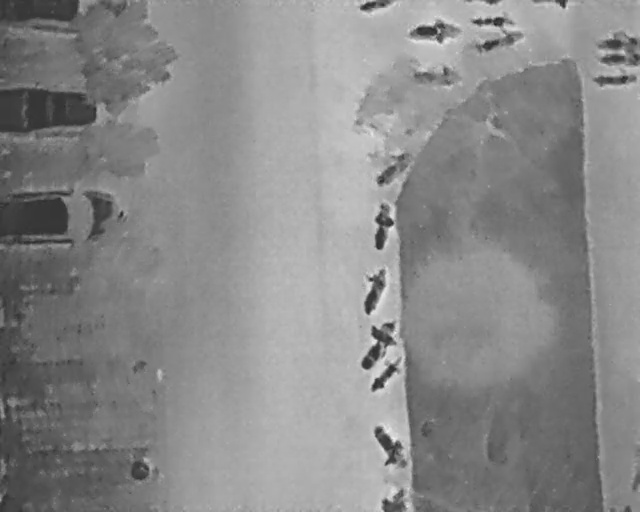Bicycle: (344, 309, 409, 377), (363, 416, 415, 478), (347, 257, 396, 320), (367, 142, 420, 192), (363, 348, 411, 399), (366, 198, 398, 253), (408, 16, 465, 43), (472, 27, 526, 55), (412, 62, 457, 86), (470, 12, 516, 32), (379, 487, 412, 511), (595, 50, 639, 68), (595, 32, 638, 50), (592, 72, 638, 87), (357, 0, 401, 14), (531, 0, 572, 13)
Car: (0, 186, 119, 247), (0, 86, 97, 135), (0, 0, 92, 41)
